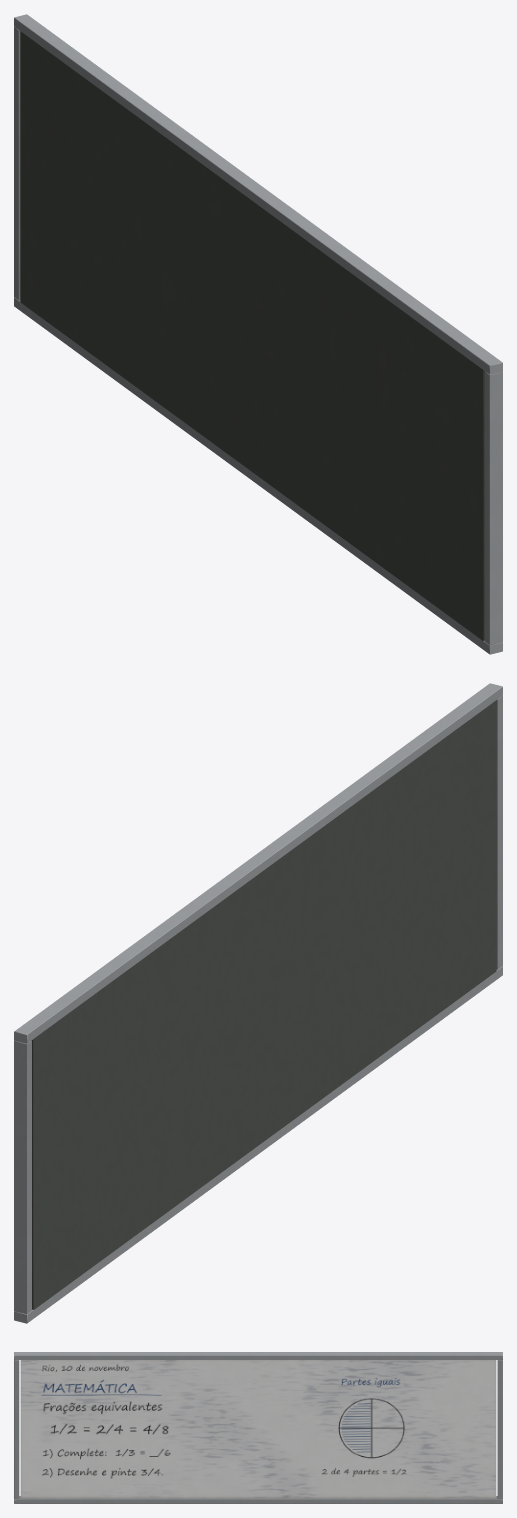
The model's file is quadro_branco_variacao_sujo_realista.glb.
3 views of the same model, one above another, from view 1: azimuth 30°, elevation 25°; view 2: azimuth 150°, elevation 25°; view 3: azimuth 270°, elevation 25° (orthographic). The views are drawn at different scales.
Parts seen in each view (by area): view 1: Quadro_branco_PBR; view 2: Quadro_branco_PBR; view 3: Quadro_branco_PBR.
Part boxes in pixels (left/top/right/bottom): Quadro_branco_PBR: left=14, top=14, right=502, bottom=654; Quadro_branco_PBR: left=14, top=683, right=502, bottom=1323; Quadro_branco_PBR: left=14, top=1352, right=502, bottom=1503.
Bounding box in the file's own units: 0.06 × 1.24 × 3.7.
Materials: 1 (1 with a texture image).
